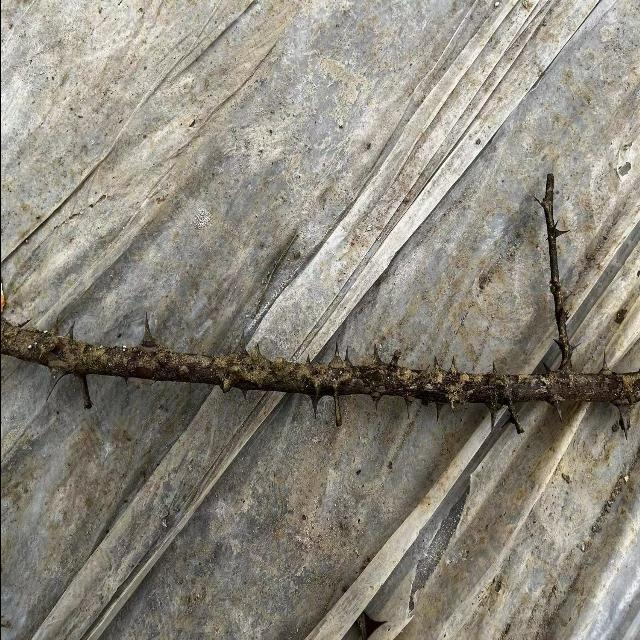branch: (0, 295, 640, 433)
